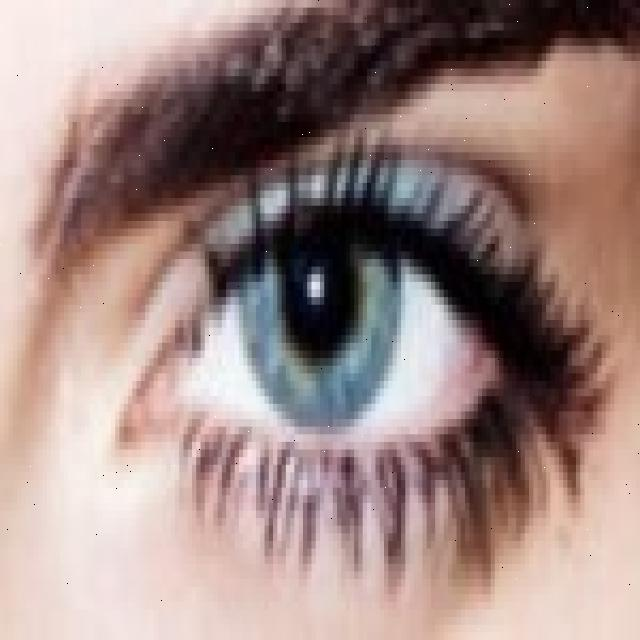Normal: (241, 156, 400, 442)
